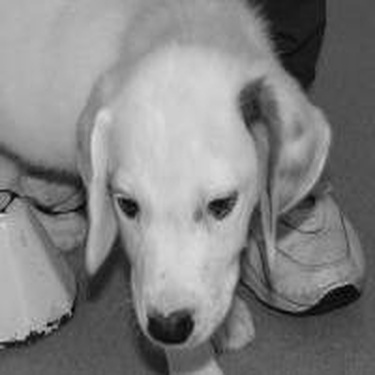dog: (2, 4, 336, 373)
